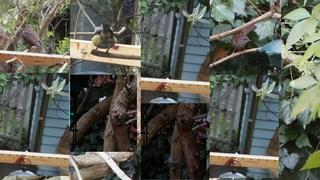blue tit: (91, 24, 117, 57)
dunnock: (231, 24, 257, 58)
starling: (22, 24, 46, 54)
